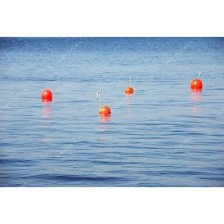buoy: (190, 79, 203, 92), (41, 89, 53, 101), (99, 106, 111, 116), (124, 86, 134, 94)
